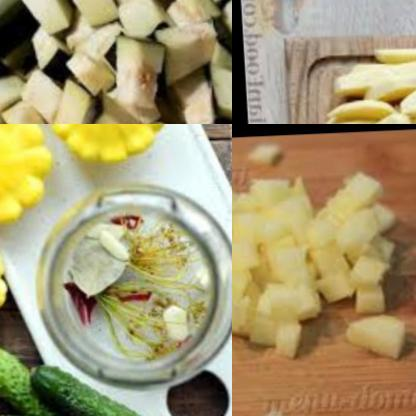cucumber: (22, 361, 150, 416), (0, 341, 52, 416)
eggplant: (0, 0, 232, 124)
garlic: (88, 227, 130, 267)
potato: (232, 136, 412, 371), (293, 44, 416, 124), (245, 407, 302, 416)
squash-patisson: (33, 124, 169, 171), (0, 124, 57, 234), (0, 225, 12, 329)
